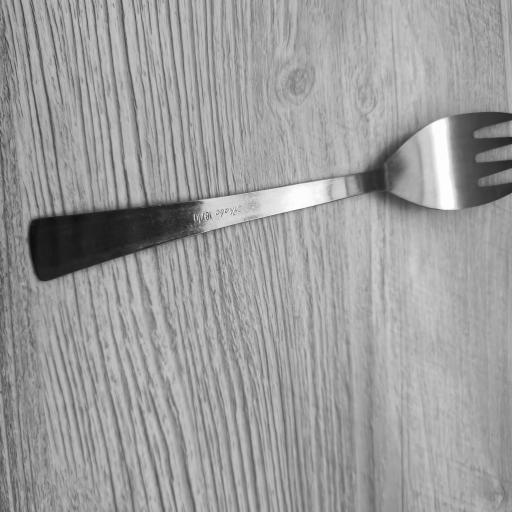fork: (35, 112, 512, 258)
